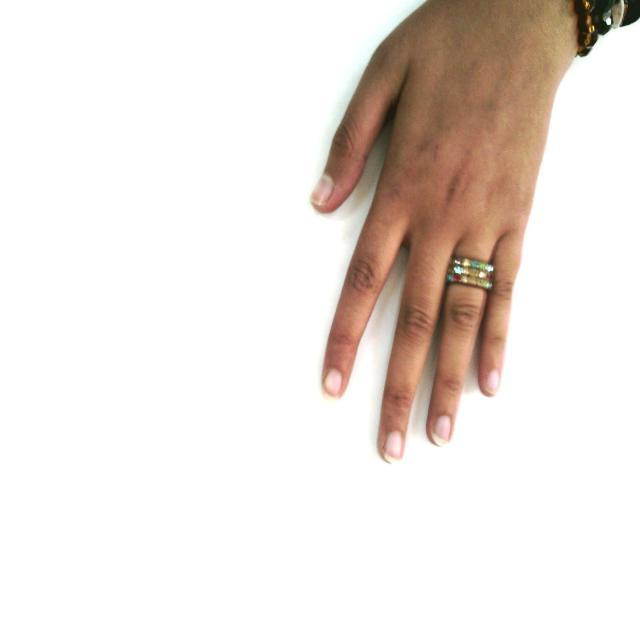Fingernail: (323, 367, 341, 402), (311, 176, 333, 204), (385, 432, 404, 463), (432, 416, 450, 446), (485, 371, 499, 393)
